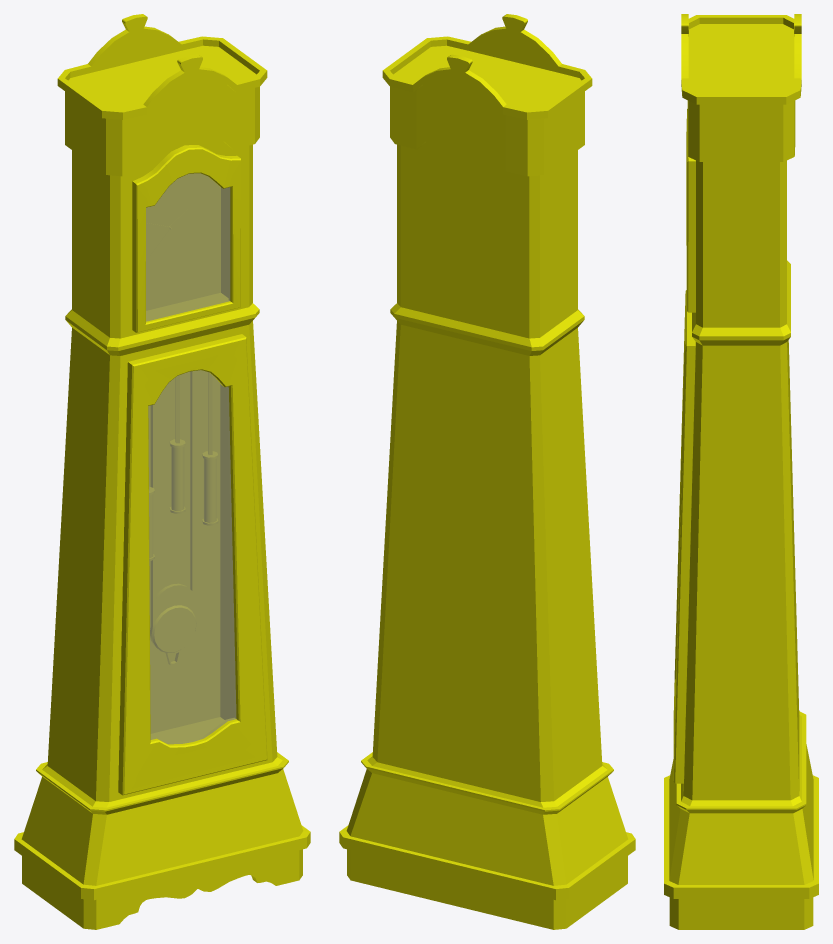
Rendered from clock.fbx.
3 views of the same model, side by side, from view 1: azimuth 30°, elevation 25°; view 2: azimuth 150°, elevation 25°; view 3: azimuth 270°, elevation 25° (orthographic).
Parts seen in each view (by area): view 1: clock, clockPendulum4, clockPendulum3, clockPendulum2; view 2: clock; view 3: clock.
Boxes of the visible parts, box(x1,y1,x2,y2) form: clock: box(14, 14, 310, 929); clockPendulum4: box(150, 371, 196, 664); clockPendulum3: box(202, 372, 217, 525); clockPendulum2: box(170, 375, 185, 513); clock: box(339, 14, 635, 929); clock: box(664, 14, 818, 929).
Bounding box in the file's own units: 55.4 × 194 × 31.75.
